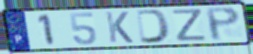1: (37, 14, 57, 46)
5: (68, 11, 99, 46)
D: (134, 9, 172, 45)
K: (103, 11, 135, 44)
P: (204, 6, 242, 42)
Z: (171, 8, 208, 43)
